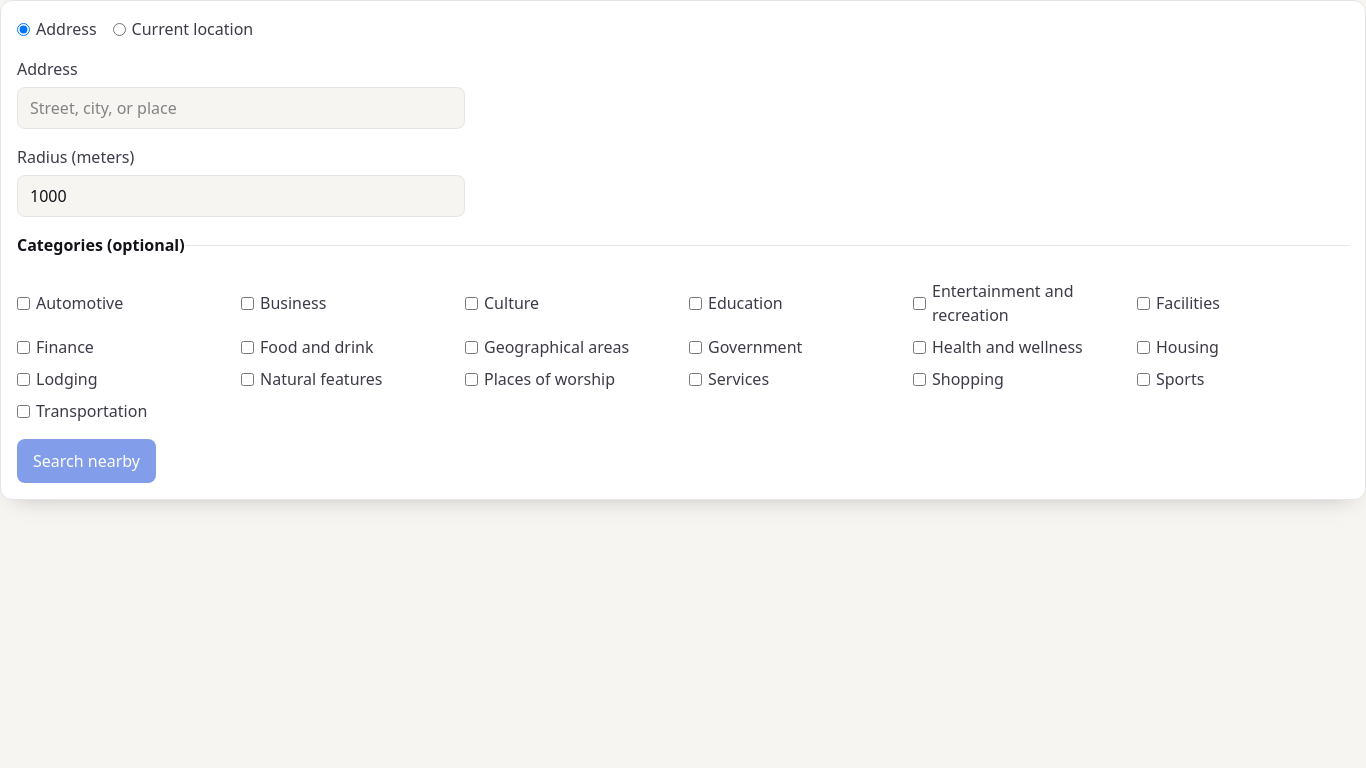
it: SearchForm location-mode address overlay › keeps leftover address after a submit when geolocation is missing
The width and height of the screenshot is (1366, 768).
Type "12 Main St" into the field labelled "Address" at coordinates (241, 108), box [17,87,465,129]
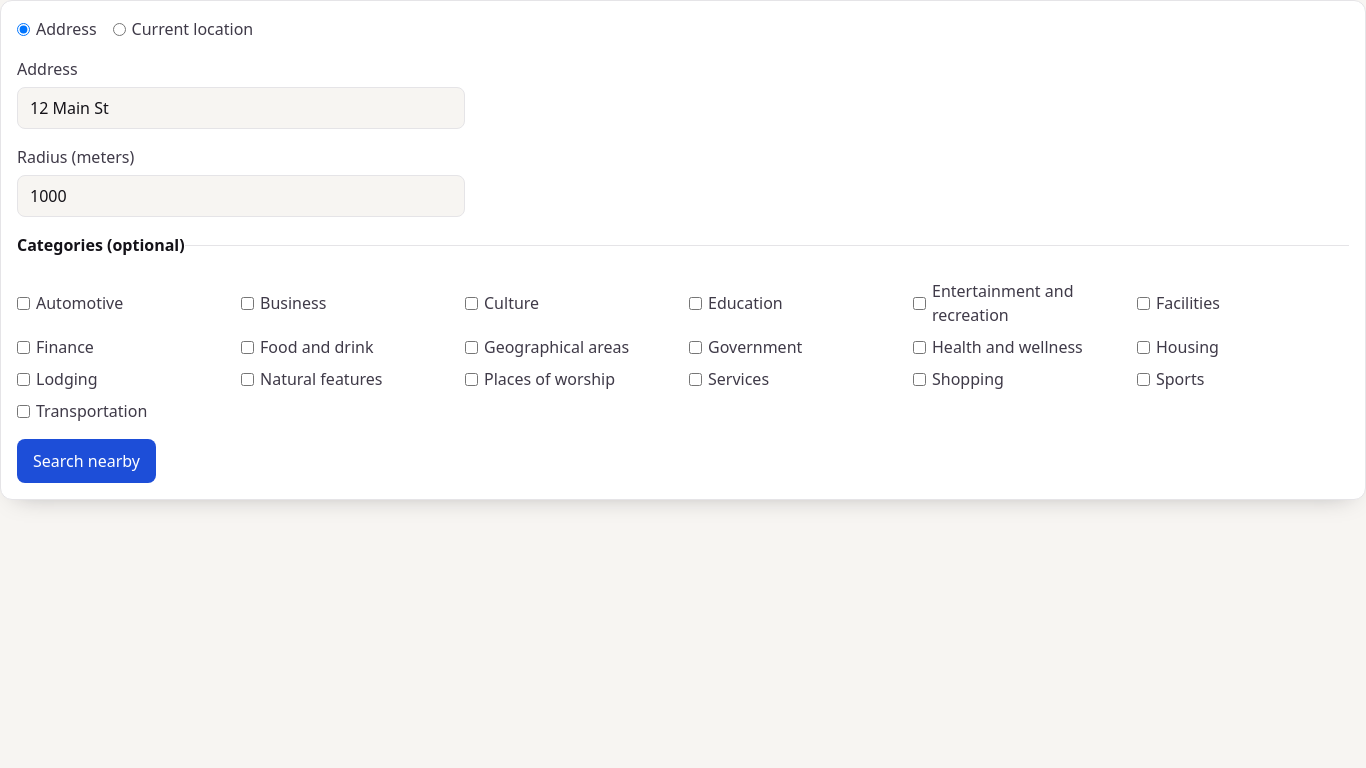
Click the radio button labelled "Current location" at coordinates (119, 29), box [112,22,126,36]
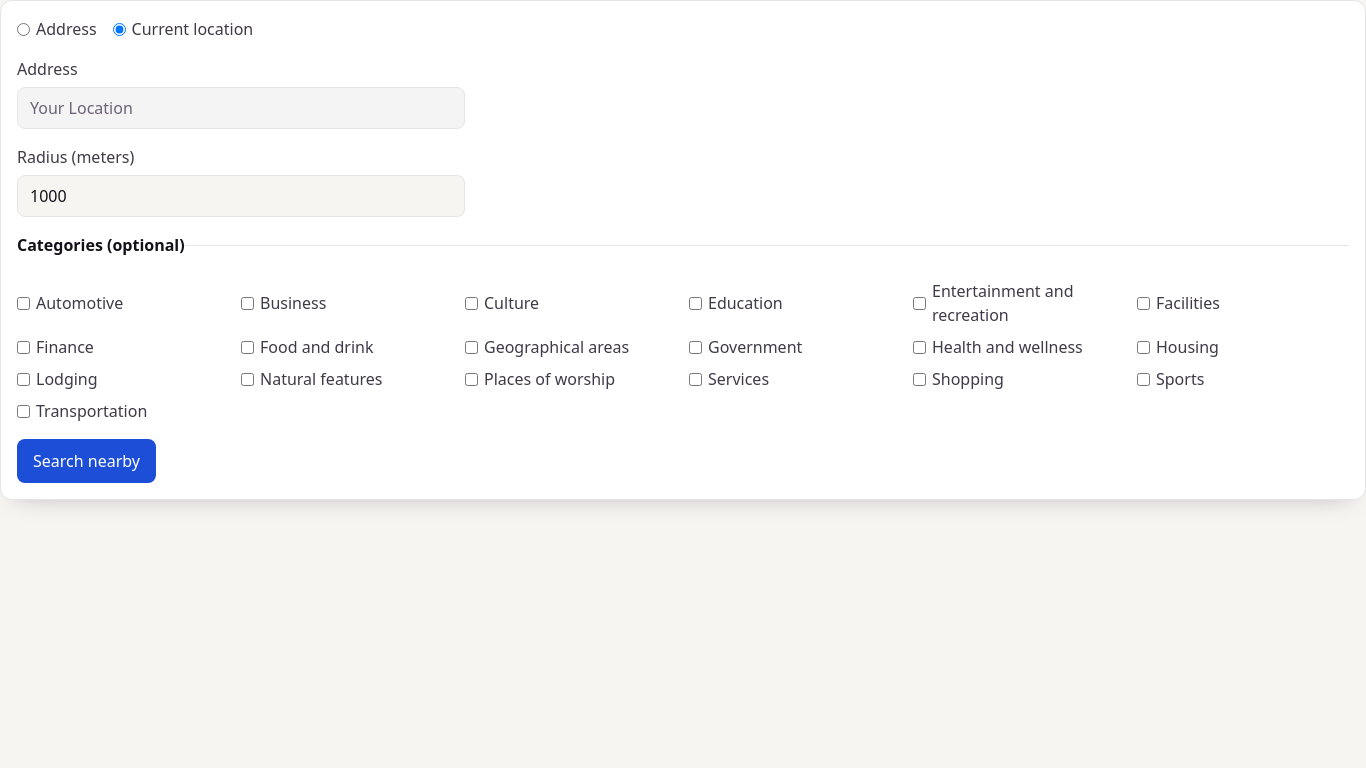
Click the button "Search nearby" at coordinates (86, 461), box [17,439,156,483]
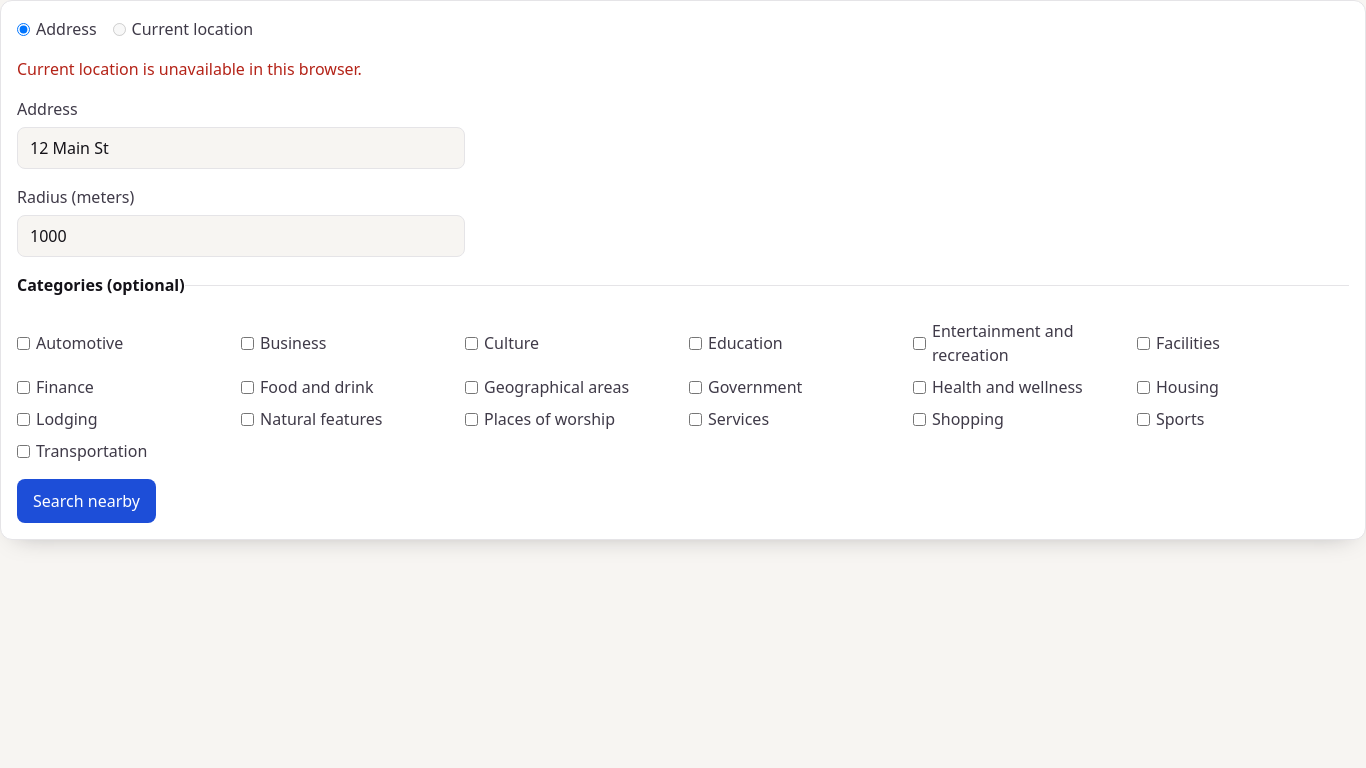
Expected: the radio button labelled "Current location" is disabled, [112,22,126,36]
